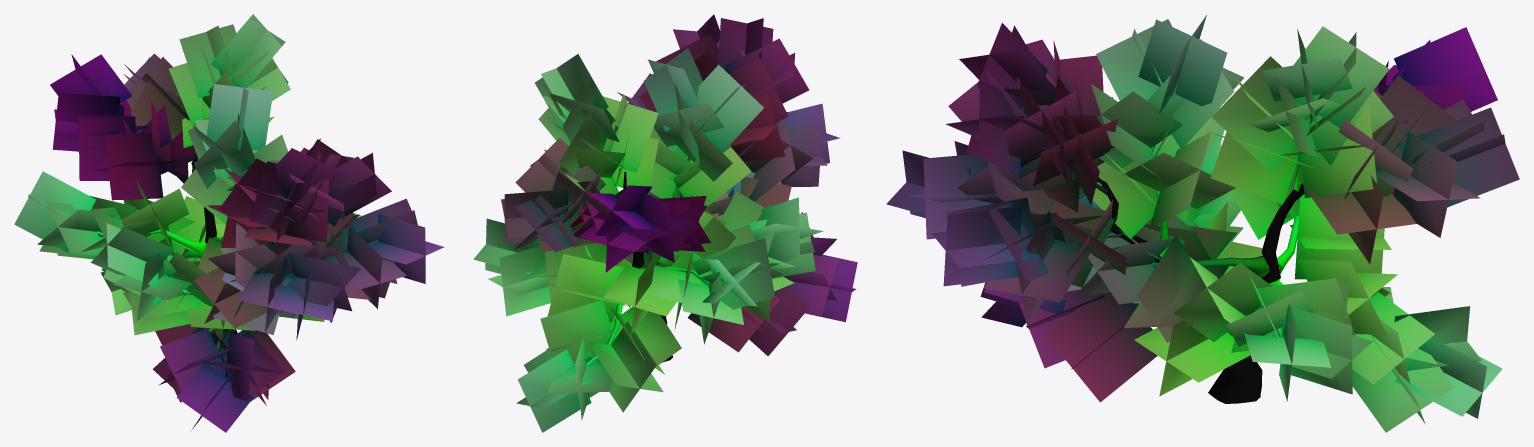
Rendered from M_P11_Tree_9.fbx.
3 views of the same model, side by side, from view 1: azimuth 30°, elevation 25°; view 2: azimuth 150°, elevation 25°; view 3: azimuth 270°, elevation 25° (orthographic). The views are drawn at different scales.
Parts seen in each view (by area): view 1: Tree_9; view 2: Tree_9; view 3: Tree_9.
Boxes of the visible parts, x1,y1,x2,y2 form: Tree_9: (14,14,444,432); Tree_9: (473,14,857,432); Tree_9: (886,15,1519,432).
Size of the model in its own units: 582 by 585 by 809.
